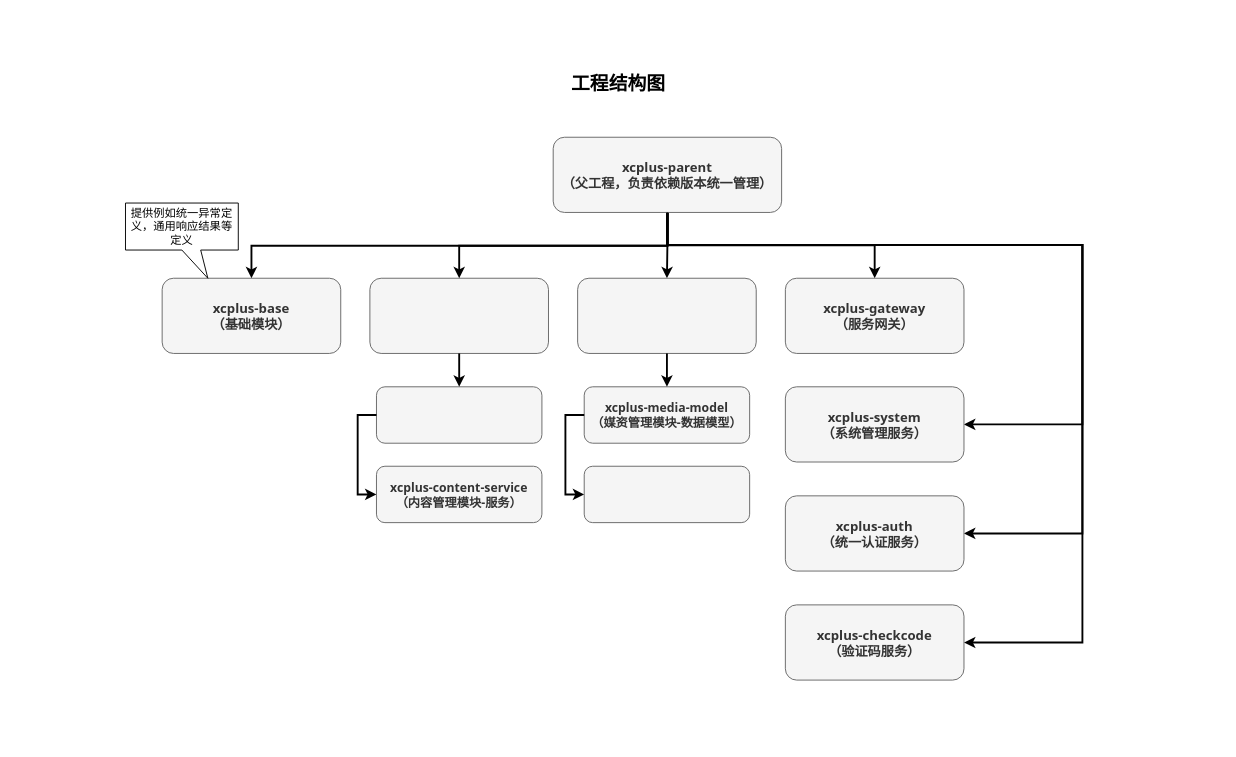
Image size: 1236x757. Some labels were removed from this diagram. The shapes that lost their labels are listed below. From the top down, each one's box as (x1, y1, x2, y2) in pixels, then its label:
(369, 277, 548, 353): xcplus-content （内容管理模块）
(577, 277, 756, 353): xcplus-media （媒体资源管理模块）
(376, 386, 542, 443): xcplus-content-model （内容管理模块-数据模型）
(583, 465, 750, 523): xcplus-media-service （媒资管理模块-服务）
